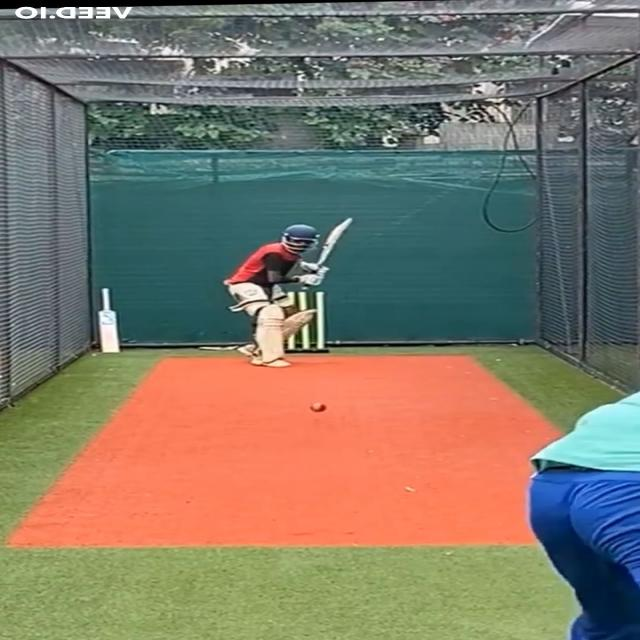ball: (307, 399, 331, 414)
stump: (283, 290, 331, 355)
